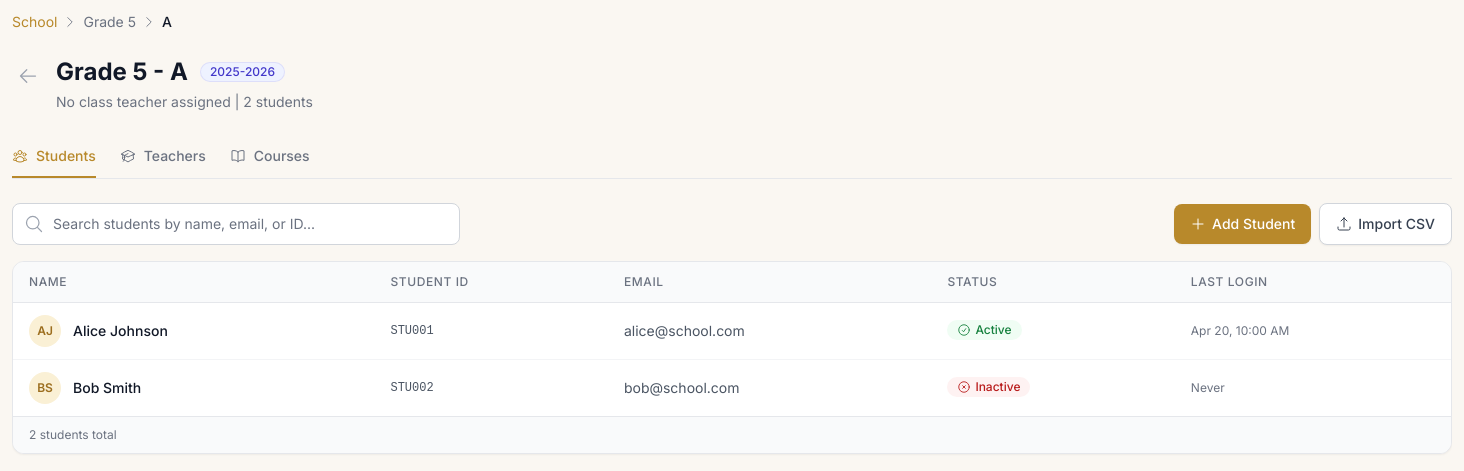
Test case: SectionDetailPage › 3. Tab navigation › clicking "Teachers" tab shows Carol Davis in the teachers list
Click the button "Teachers": (163, 157) [120,136,206,178]
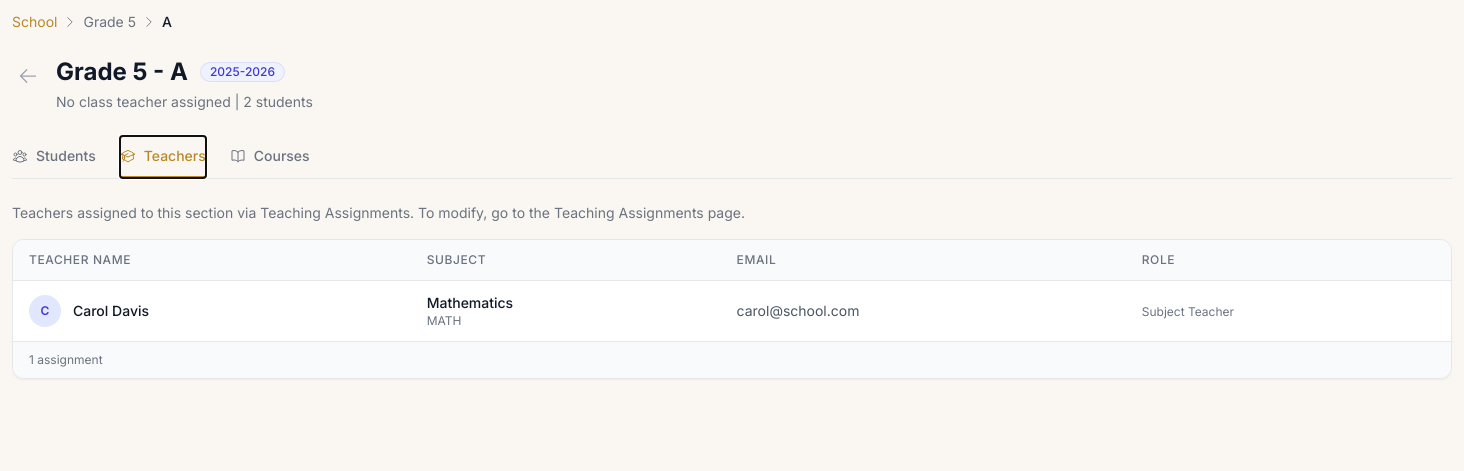
Result: the text "Carol Davis" is shown at [73,301,149,321]
